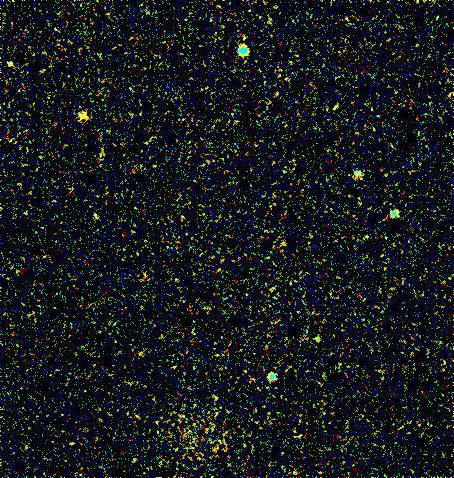star: (67, 101, 97, 131)
